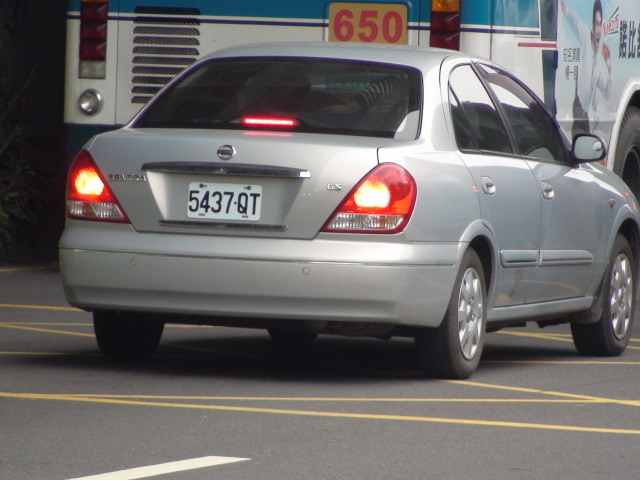plate: (184, 179, 265, 225)
